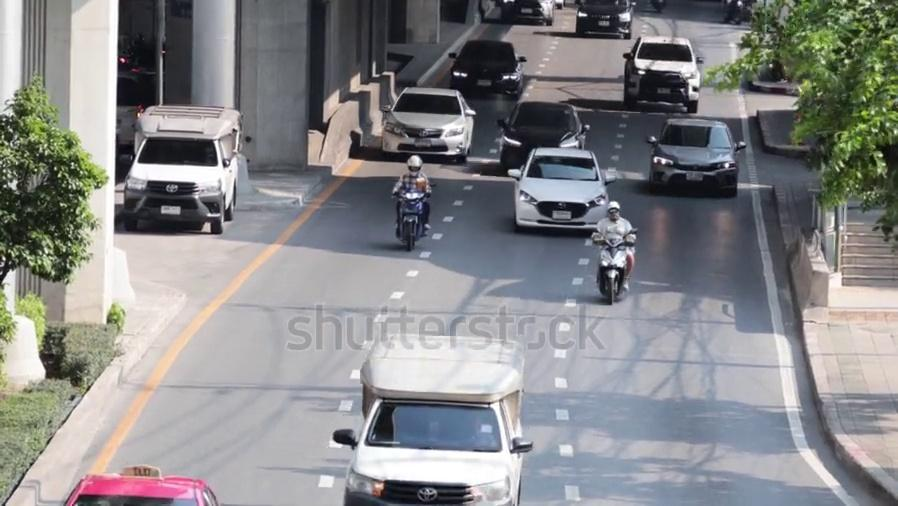rider: (592, 200, 636, 305), (391, 154, 433, 249)
with_helmate: (406, 153, 422, 178), (604, 199, 621, 222)
